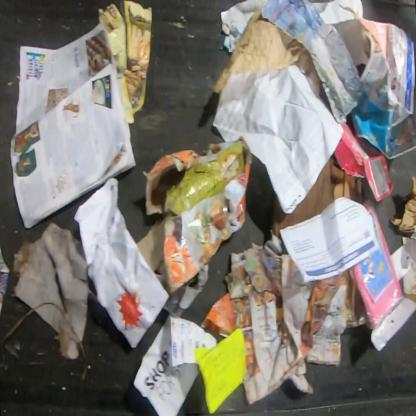cardboard: (136, 138, 253, 294), (270, 153, 365, 232), (333, 120, 395, 202), (390, 175, 415, 234), (342, 268, 360, 310)
soft_plastic: (350, 199, 415, 353)
